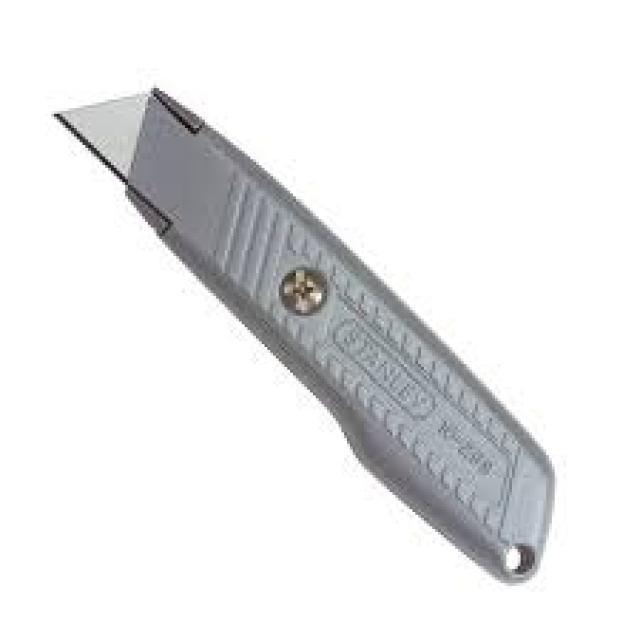cutter: (46, 79, 558, 594)
